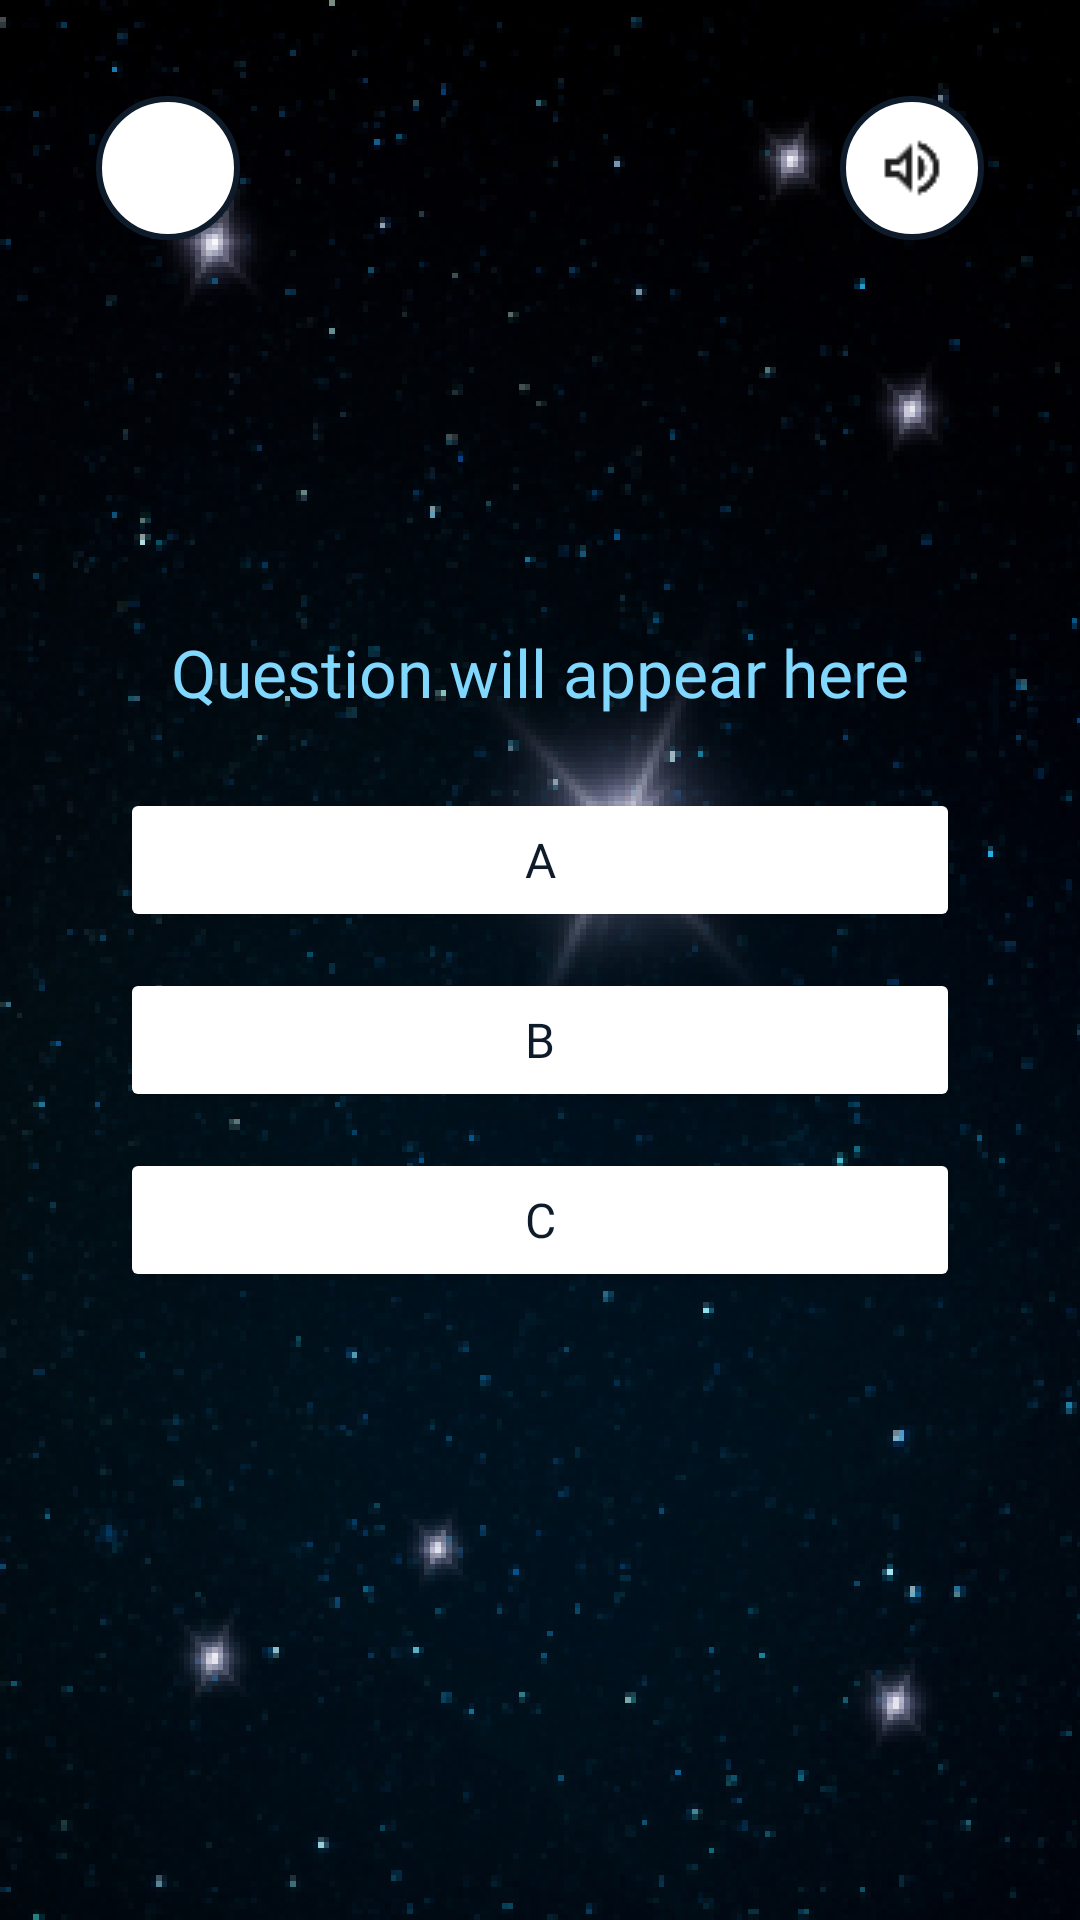

Locate icon controls on the screen. Image size 1080x1920, boxes as (x1, y1, x2, y2).
Audio: (840, 96, 984, 240)
